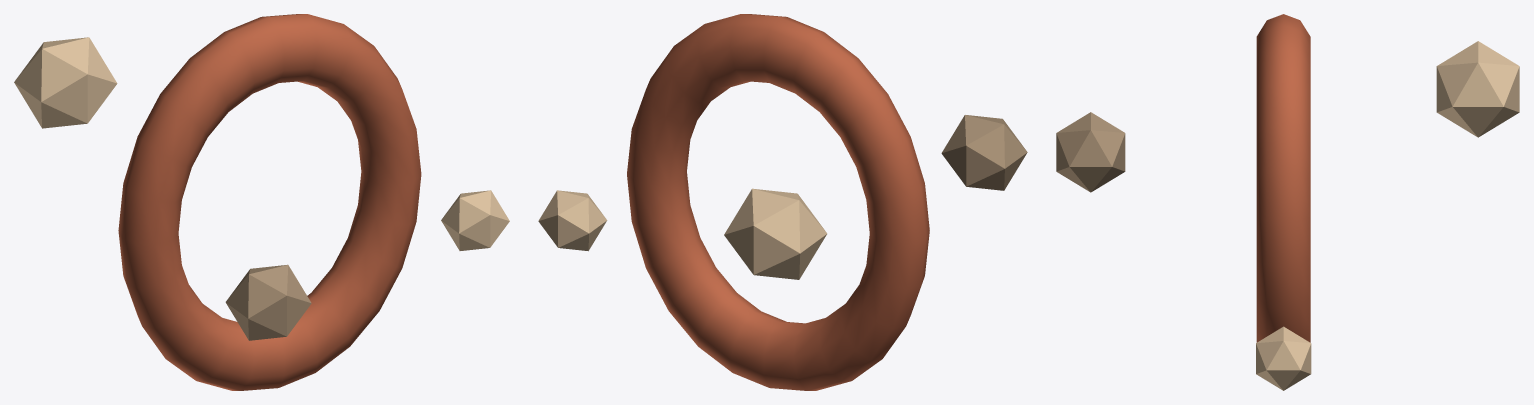
The model's file is landmark.glb.
3 views of the same model, side by side, from view 1: azimuth 30°, elevation 25°; view 2: azimuth 150°, elevation 25°; view 3: azimuth 270°, elevation 25° (orthographic). The views are drawn at different scales.
Parts seen in each view (by area): view 1: landmark_core_5, landmark_orbit_2, landmark_orbit_1, landmark_orbit_0; view 2: landmark_core_5, landmark_orbit_2, landmark_orbit_1, landmark_orbit_0; view 3: landmark_core_5, landmark_orbit_2, landmark_orbit_1, landmark_orbit_0.
Part boxes in pixels (box(x1,y1,x2,y2)): landmark_core_5: box(118, 14, 421, 390); landmark_orbit_2: box(14, 37, 117, 128); landmark_orbit_1: box(225, 264, 311, 340); landmark_orbit_0: box(441, 190, 509, 250); landmark_core_5: box(627, 14, 929, 390); landmark_orbit_2: box(724, 188, 827, 279); landmark_orbit_1: box(941, 115, 1027, 190); landmark_orbit_0: box(538, 190, 607, 251); landmark_core_5: box(1256, 14, 1310, 342); landmark_orbit_2: box(1436, 41, 1519, 137); landmark_orbit_1: box(1056, 112, 1125, 192); landmark_orbit_0: box(1256, 326, 1311, 390).
Size of what is drawn, in the model's own units: 4.05 by 3.79 by 4.57.
